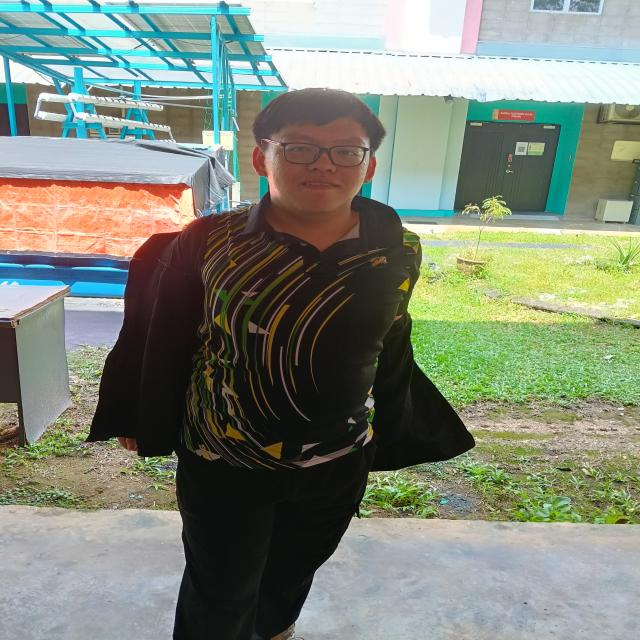person_without_labcoat: (89, 88, 473, 640)
